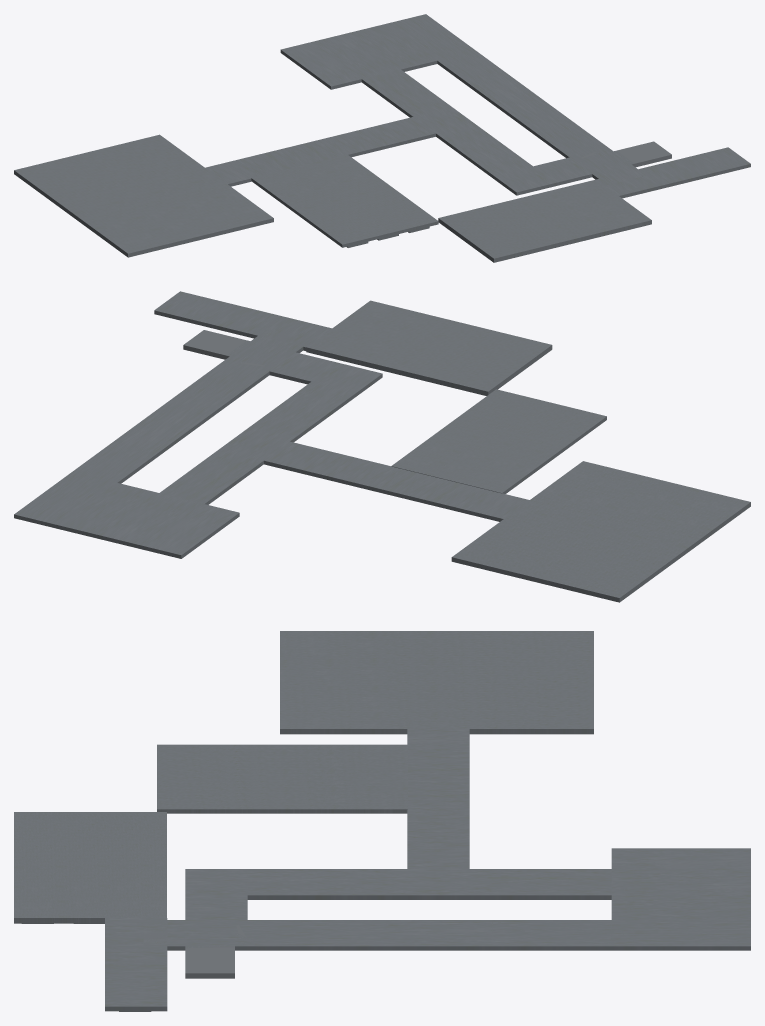
The model's file is Roof.fbx.
The picture shows the model from 3 angles, top to bottom: view 1: azimuth 30°, elevation 25°; view 2: azimuth 150°, elevation 25°; view 3: azimuth 270°, elevation 25°; orthographic projection. The views are drawn at different scales.
Visible parts, largest first — view 1: Cube.040; view 2: Cube.040; view 3: Cube.040.
Boxes of the visible parts, x1=… form: Cube.040: x1=14, y1=14, x2=750, y2=262; Cube.040: x1=14, y1=291, x2=750, y2=602; Cube.040: x1=14, y1=631, x2=750, y2=1011.
Bounding box in the file's own units: 5135 × 58.67 × 4257.
